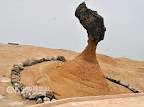yehliu: (72, 2, 113, 41)
